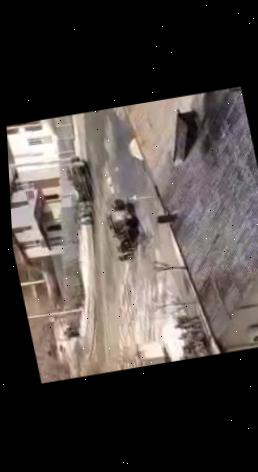armored_car: (102, 197, 142, 250), (62, 155, 95, 204)
person: (114, 253, 137, 264), (115, 245, 137, 256)
